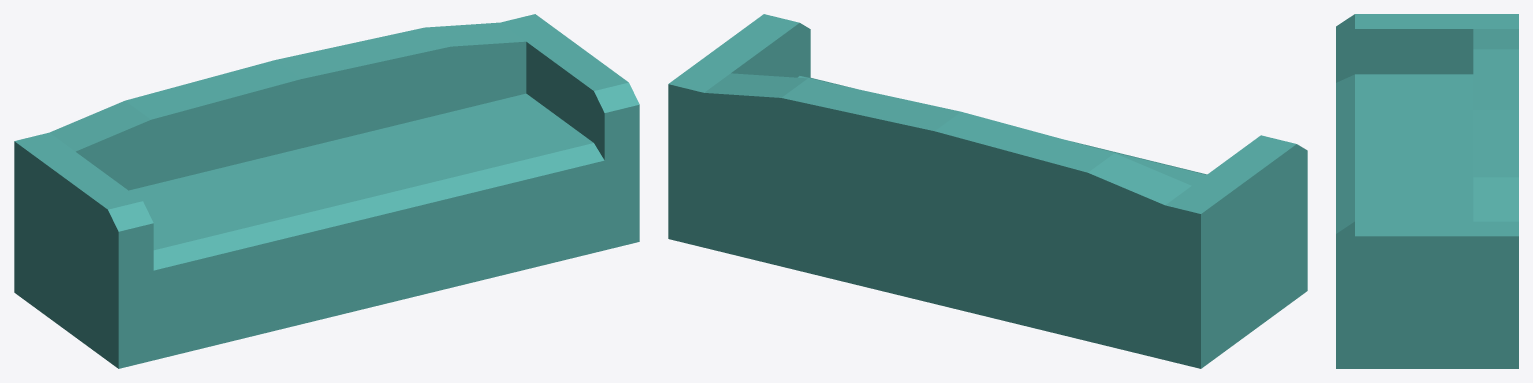
The model's file is hard_couch_2.fbx.
The picture shows the model from 3 angles, left to right: view 1: azimuth 30°, elevation 25°; view 2: azimuth 150°, elevation 25°; view 3: azimuth 270°, elevation 25°; orthographic projection. The views are drawn at different scales.
Visible parts, largest first — view 1: hard_couch_2; view 2: hard_couch_2; view 3: hard_couch_2.
Boxes of the visible parts, x1=… form: hard_couch_2: x1=14, y1=14, x2=639, y2=368; hard_couch_2: x1=668, y1=14, x2=1307, y2=368; hard_couch_2: x1=1336, y1=14, x2=1518, y2=368.
Bounding box in the file's own units: 9.07 × 2.81 × 3.15.
